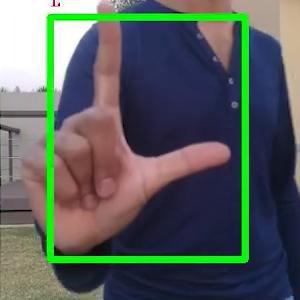land_hand: (9, 0, 237, 258)
